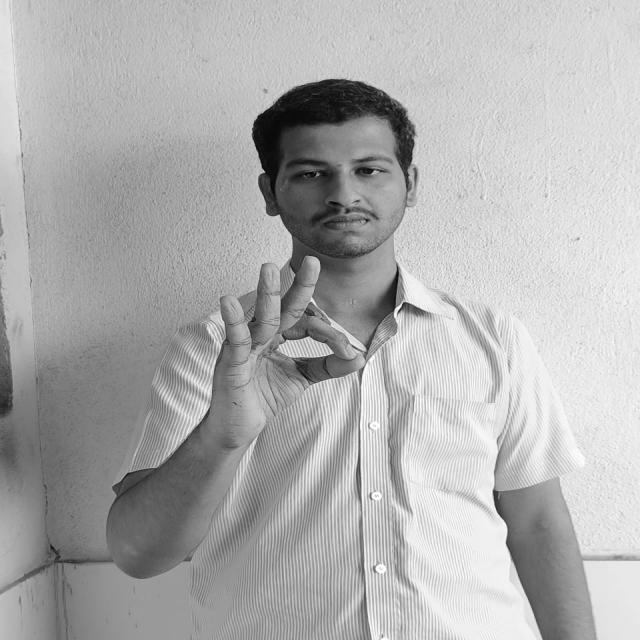Superb: (209, 254, 366, 435)
